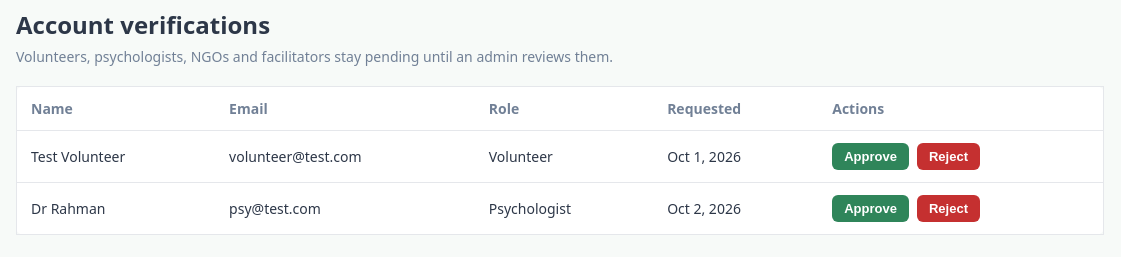
Scenario: Verifications page › rejects an account with the typed reason
The width and height of the screenshot is (1121, 257).
Expected: the text "Test Volunteer" is shown, x1=16 y1=130 x2=215 y2=182
Click the button "Reject" in the row of "Test Volunteer" at x=948, y=156, box x1=917 y1=143 x2=980 y2=170
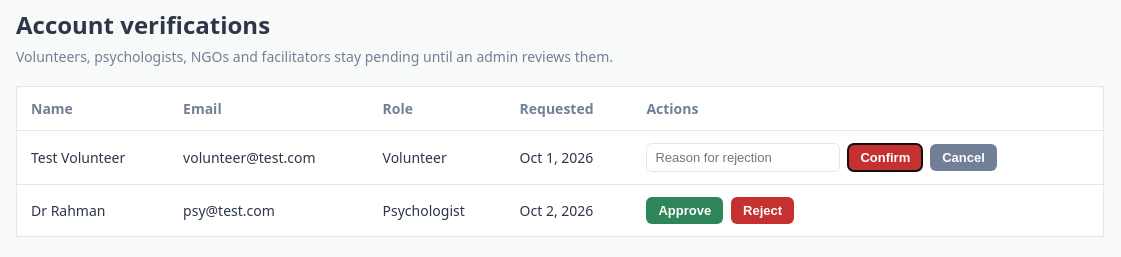
Type "ID not verifiable" into the field labelled "Rejection reason" at x=743, y=158, box x1=646 y1=143 x2=840 y2=172
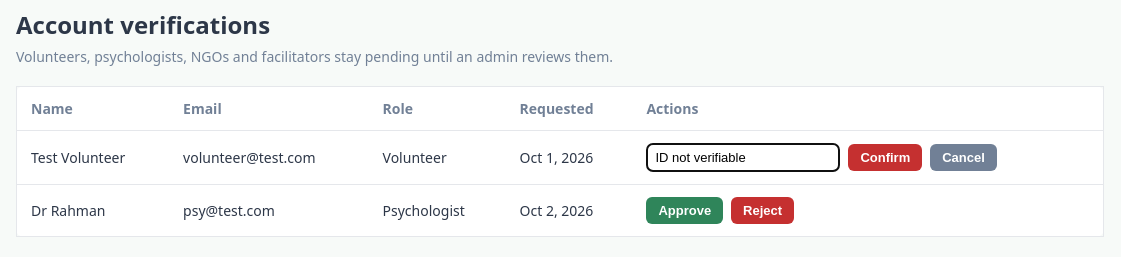
Click the button "Confirm" at x=885, y=158, box x1=848 y1=144 x2=922 y2=171
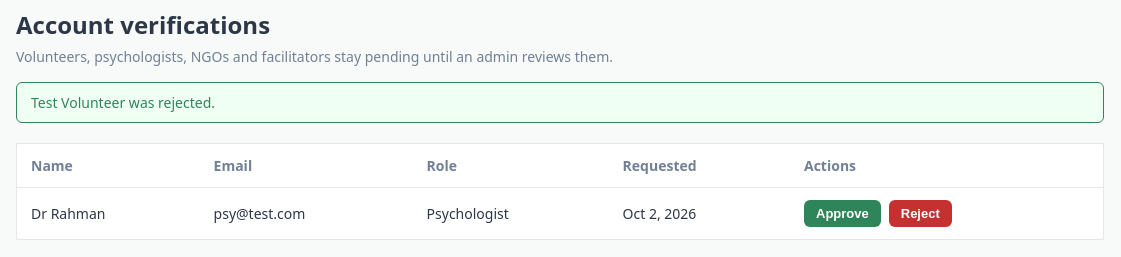
Result: the text with test id "verifications-notice" reads "Test Volunteer was rejected." at x1=31 y1=93 x2=215 y2=112
